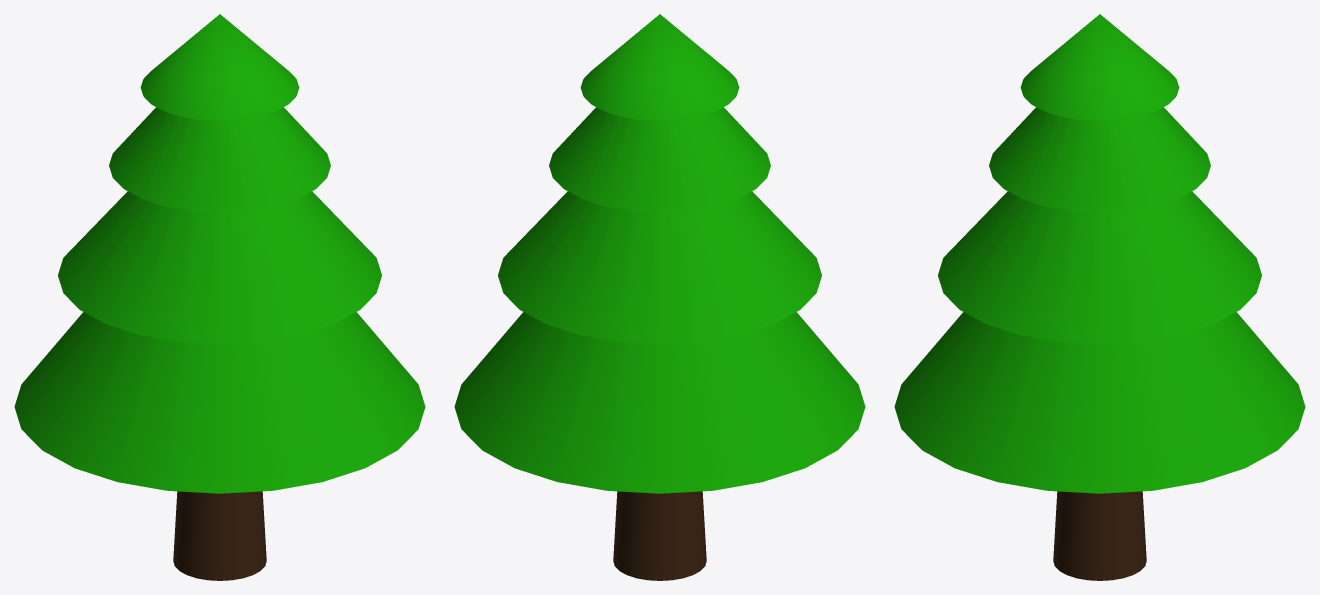
The model's file is tree 1.fbx.
The picture shows the model from 3 angles, left to right: view 1: azimuth 30°, elevation 25°; view 2: azimuth 150°, elevation 25°; view 3: azimuth 270°, elevation 25°; orthographic projection.
Visible parts, largest first — view 1: Cylinder.004; view 2: Cylinder.004; view 3: Cylinder.004.
Part boxes in pixels (bbox=[...]): Cylinder.004: bbox=[14, 14, 425, 580]; Cylinder.004: bbox=[454, 14, 865, 580]; Cylinder.004: bbox=[894, 14, 1305, 580].
Size of the model in its own units: 10.86 by 15.95 by 10.86.
